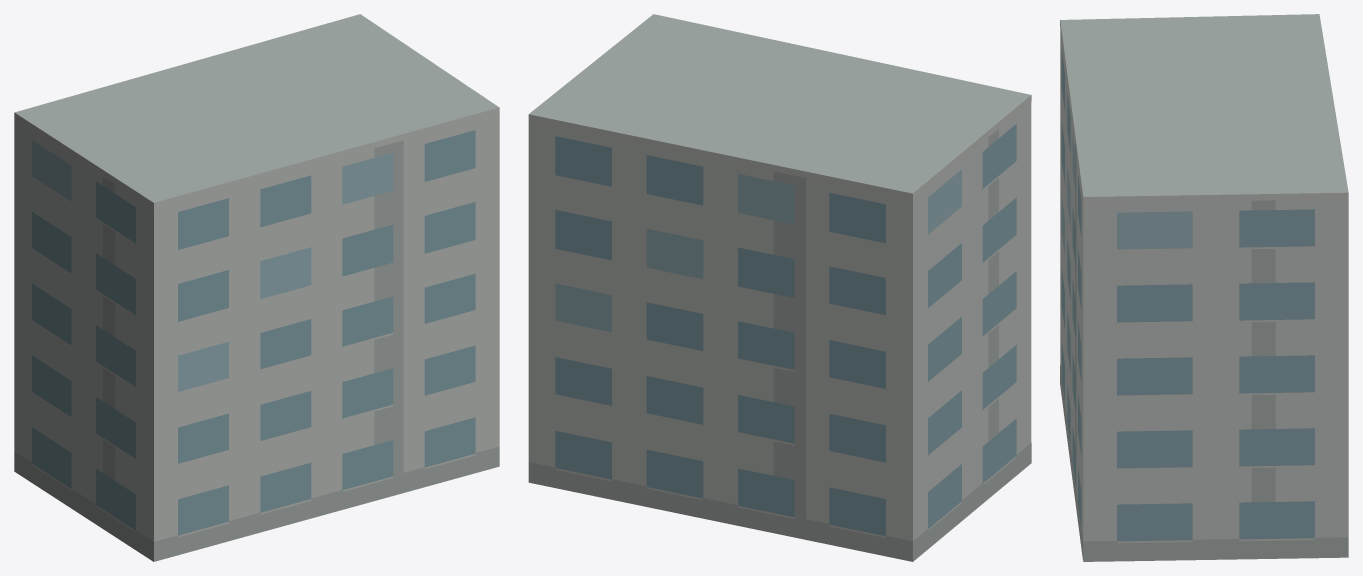
Rendered from survey-upis-32887740.glb.
3 renders of one model, left to right at view 1: azimuth 30°, elevation 25°; view 2: azimuth 150°, elevation 25°; view 3: azimuth 270°, elevation 25°, orthographic. The views are drawn at different scales.
Visible parts, largest first — view 1: survey-upis-32887740.tmp; view 2: survey-upis-32887740.tmp; view 3: survey-upis-32887740.tmp.
Boxes of the visible parts, <box> form: survey-upis-32887740.tmp: <box>14,14,499,561</box>; survey-upis-32887740.tmp: <box>528,14,1031,561</box>; survey-upis-32887740.tmp: <box>1060,14,1348,561</box>.
Size of the model in its own units: 14.64 by 13.6 by 9.75.
